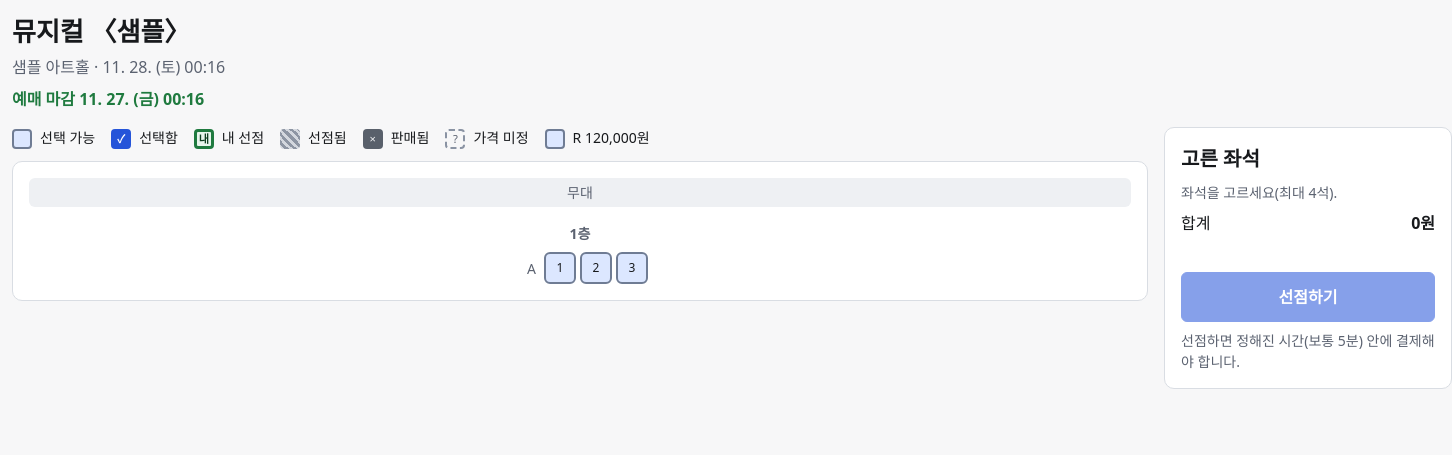
좌석 지도 화면 › 다른 사람이 먼저 선점한 좌석은 이름을 들어 알리고 고른 목록에서 뺀다
This screenshot has width=1452, height=455.
Click the button "1" at point(560, 268), box [544, 252, 576, 284]
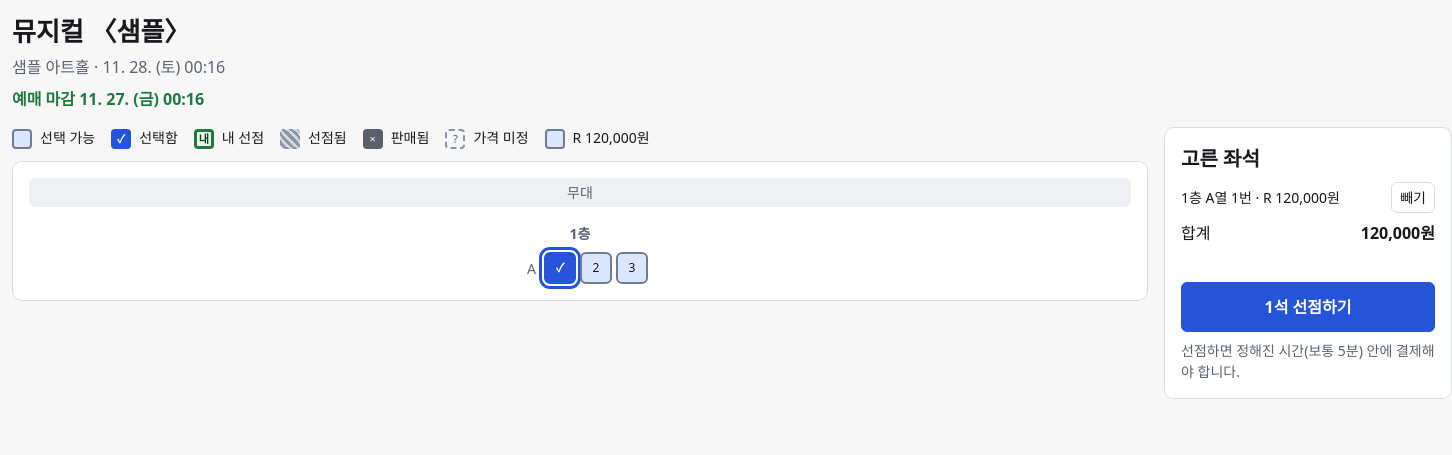
Click the button "2" at point(596, 268), box [580, 252, 612, 284]
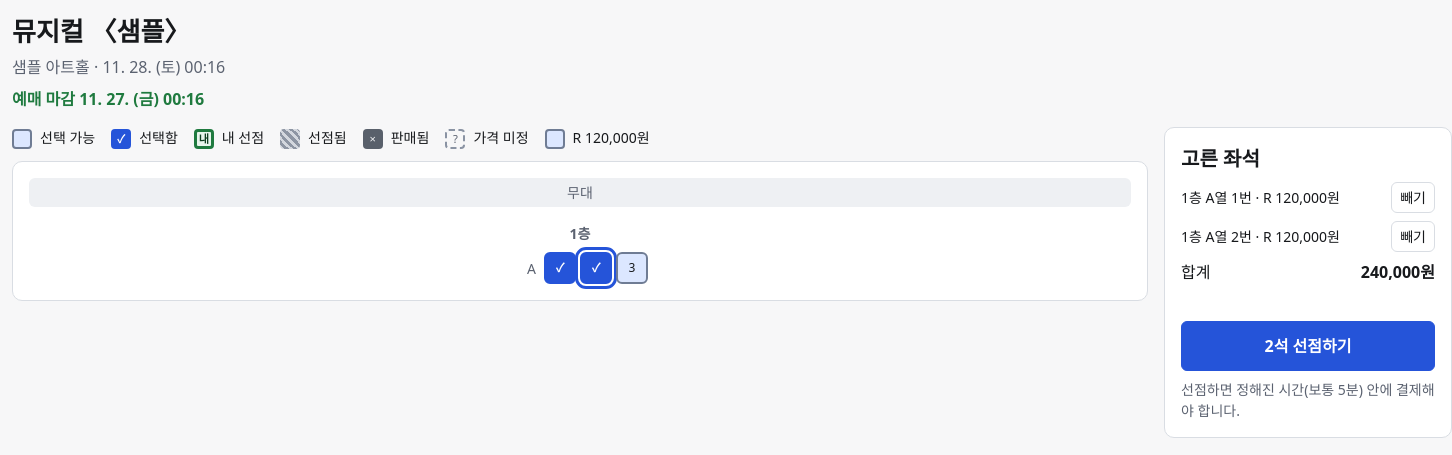
Click the button "2석 선점하기" at point(1308, 346), box [1181, 321, 1435, 371]
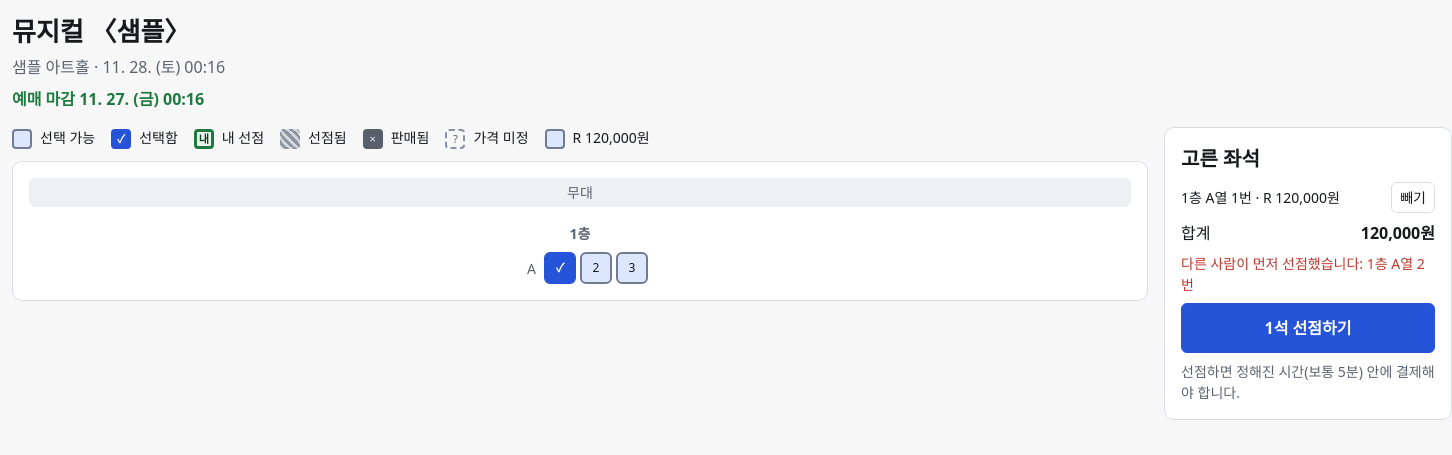
Check: the text "다른 사람이 먼저 선점했습니다: 1층 A열 2번" is shown, box [1181, 253, 1435, 295]
Check: the button "1석 선점하기" is shown, box [1181, 303, 1435, 353]
